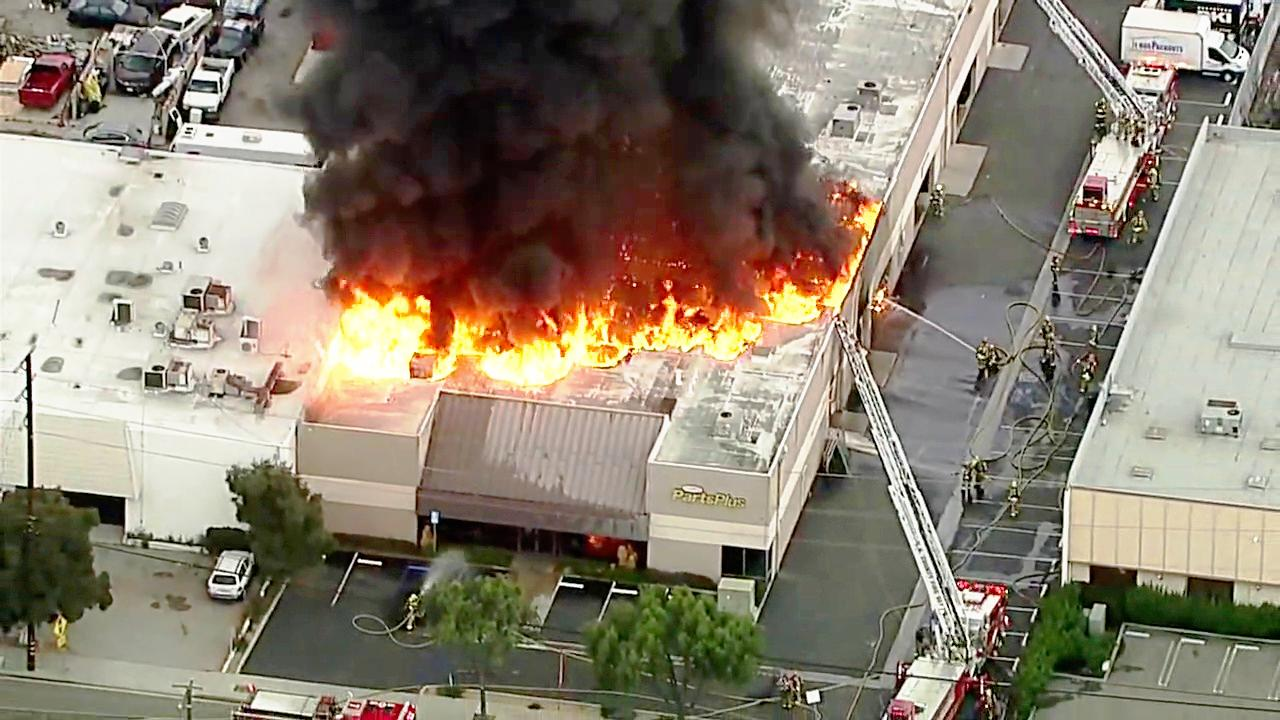fire: (485, 315, 604, 395), (627, 290, 759, 359), (344, 297, 433, 380), (753, 277, 824, 327)
smoke: (350, 0, 749, 260)
